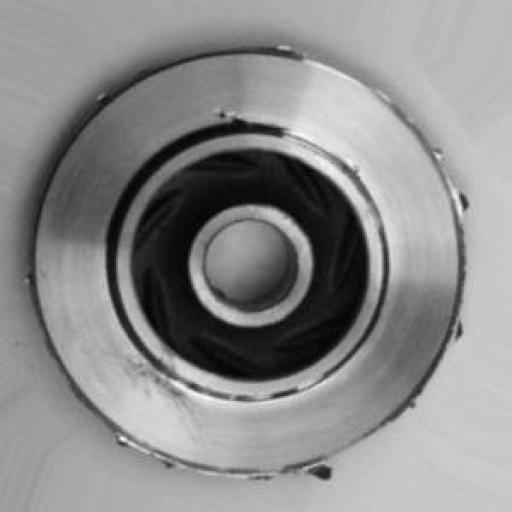defect: (29, 19, 477, 476)
